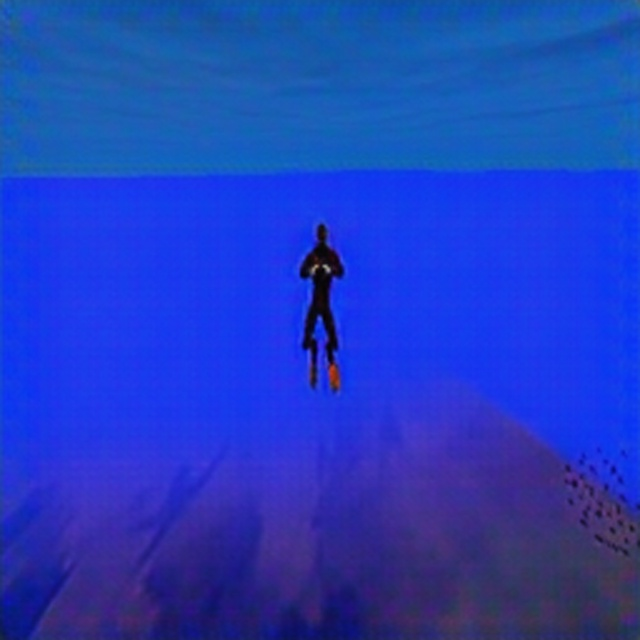diver: (301, 222, 348, 412)
